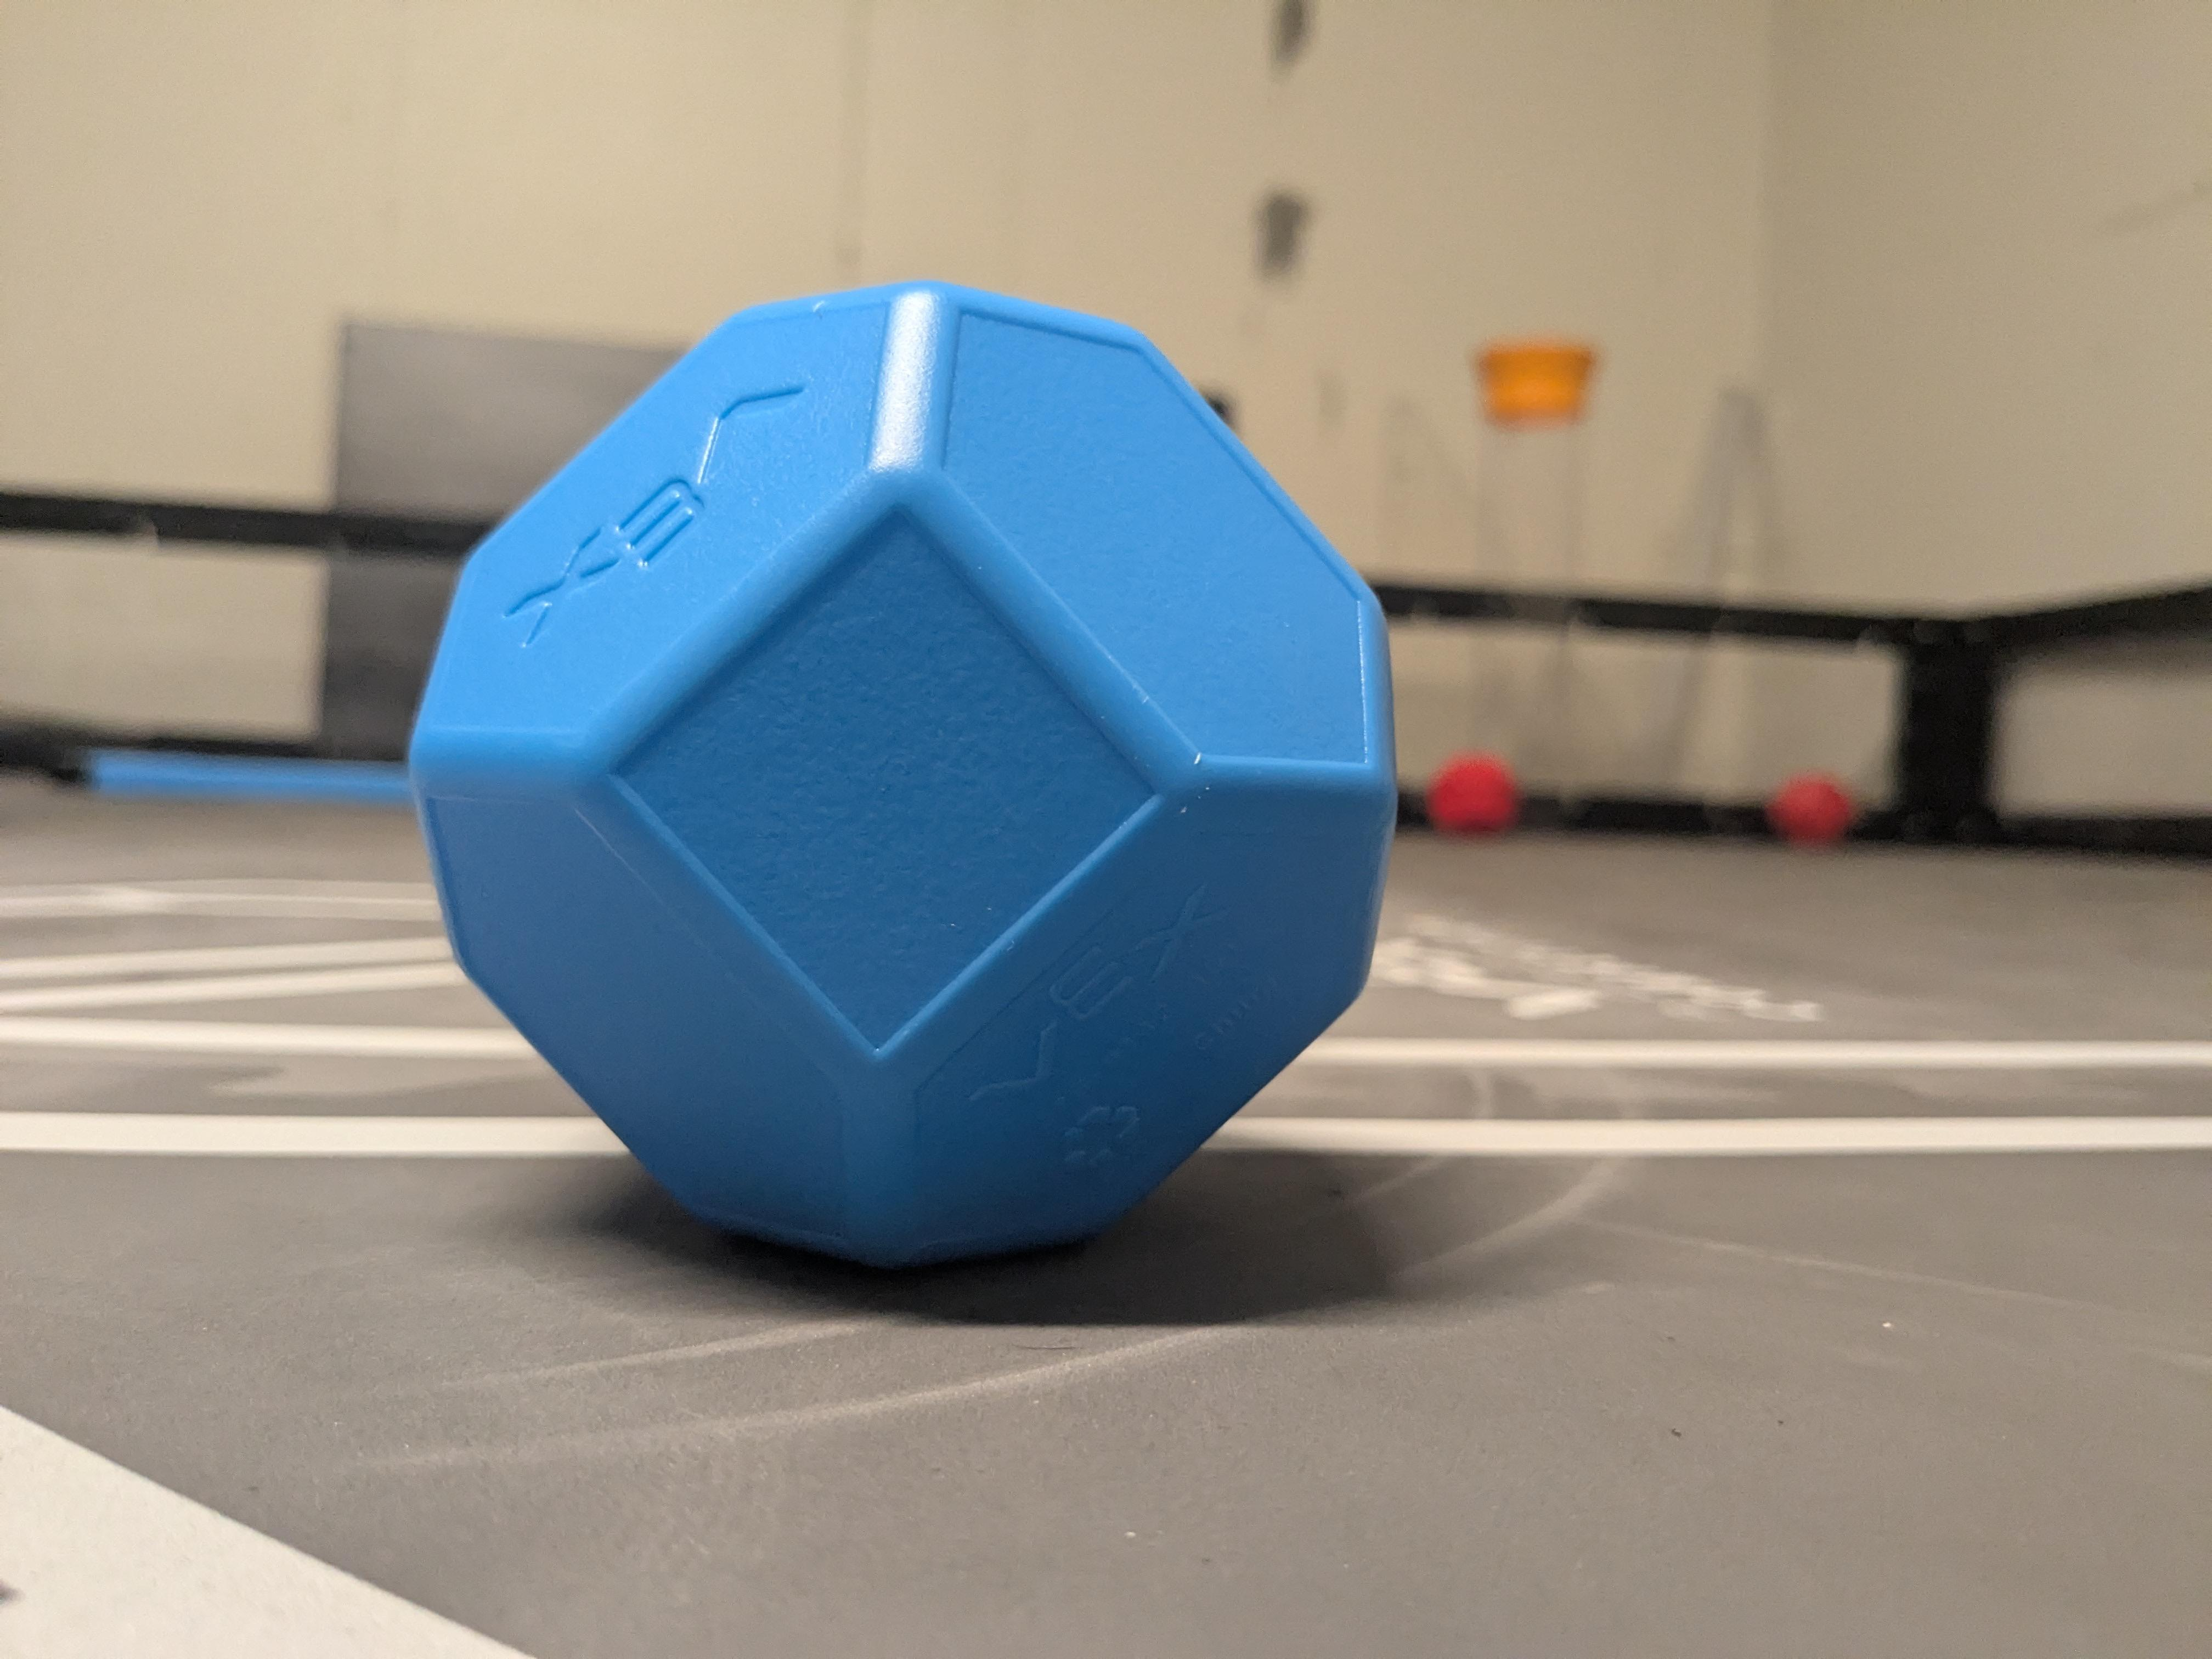Vex-Pieces-BLUE: (411, 282, 1395, 1263)
